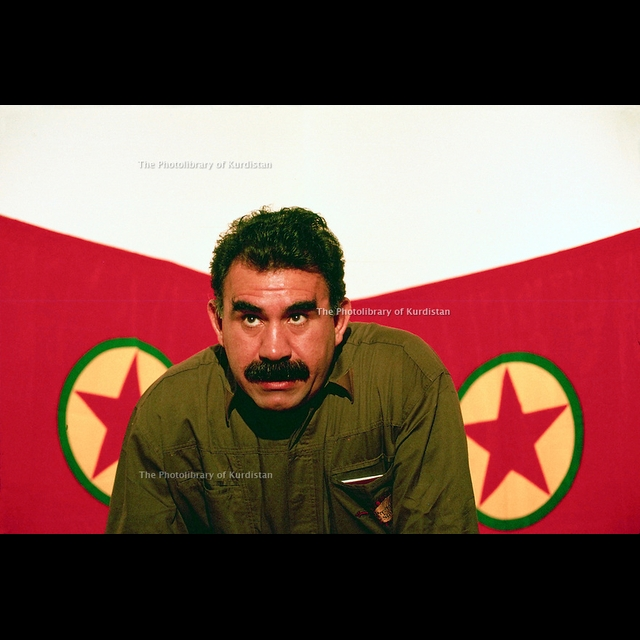APO: (201, 207, 345, 425)
